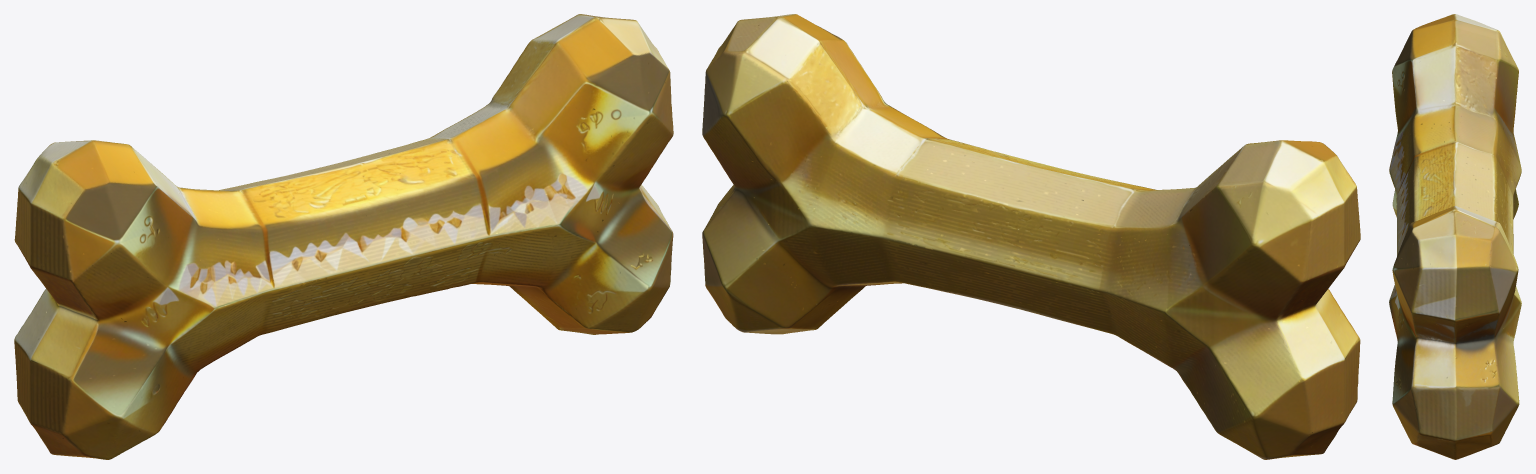
The model's file is Cartoon_dog_bone_gol_1128113819_texture.glb.
3 renders of one model, left to right at view 1: azimuth 30°, elevation 25°; view 2: azimuth 150°, elevation 25°; view 3: azimuth 270°, elevation 25°, orthographic. The views are drawn at different scales.
Size of the model in its own units: 2 by 0.9673 by 0.4744.
1 material, 1 textured.
